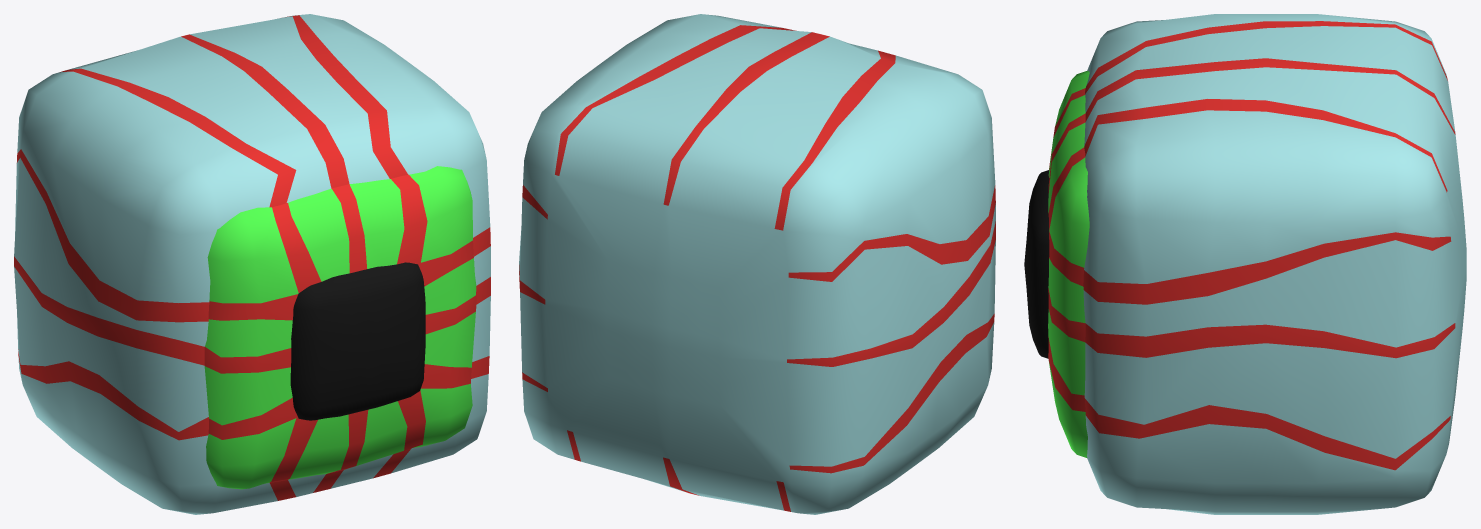
The model's file is Eye.fbx.
3 renders of one model, left to right at view 1: azimuth 30°, elevation 25°; view 2: azimuth 150°, elevation 25°; view 3: azimuth 270°, elevation 25°, orthographic. The views are drawn at different scales.
Parts seen in each view (by area): view 1: Eye; view 2: Eye; view 3: Eye.
Boxes of the visible parts, x1,y1,x2,y2 form: Eye: (14,14,490,514); Eye: (519,14,995,514); Eye: (1024,14,1466,514).
Size of the model in its own units: 111 by 111 by 111.
